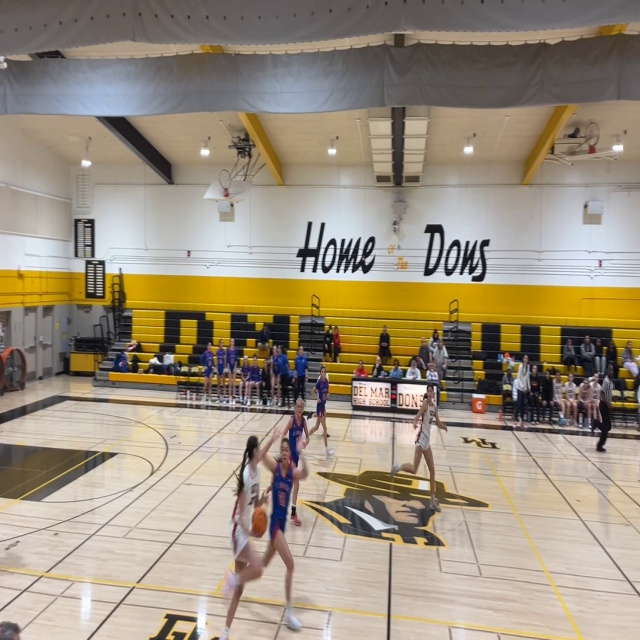Basketball: (250, 506, 268, 537)
